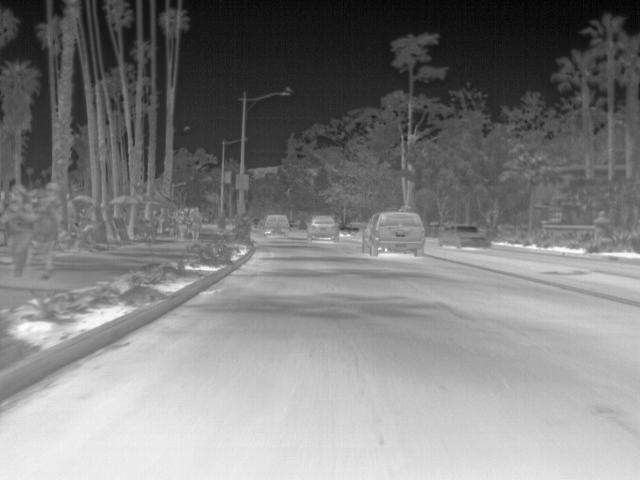car: (361, 210, 428, 256), (440, 222, 493, 250), (305, 213, 341, 239), (259, 214, 292, 233), (339, 226, 353, 237)
person: (1, 188, 38, 276), (34, 182, 64, 279), (188, 205, 204, 238), (178, 209, 190, 238)
